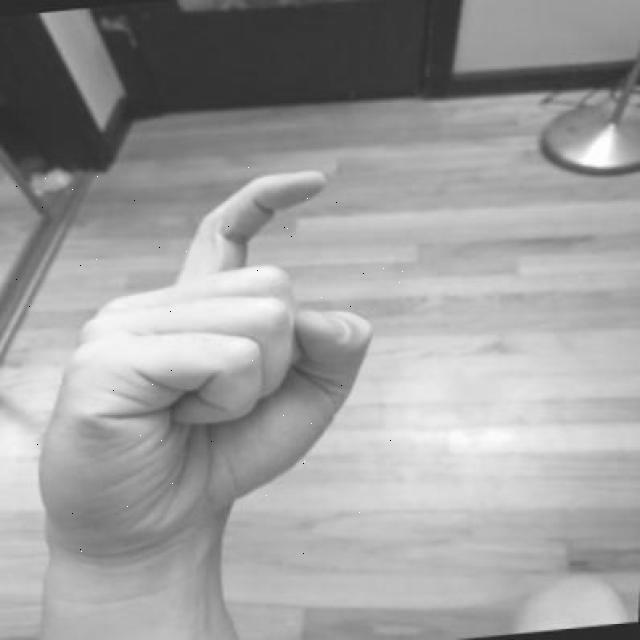X: (11, 160, 404, 564)
